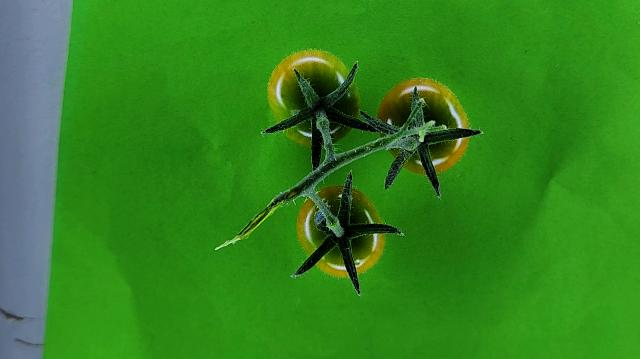Fully Grown: (375, 76, 471, 175), (267, 49, 361, 149), (297, 185, 386, 279)
